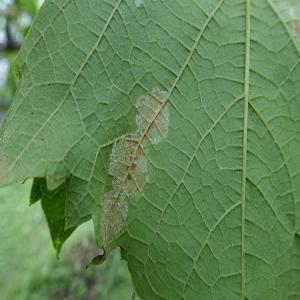Folha: (0, 0, 299, 299)
Fungo: (85, 85, 171, 268), (134, 86, 170, 145)
